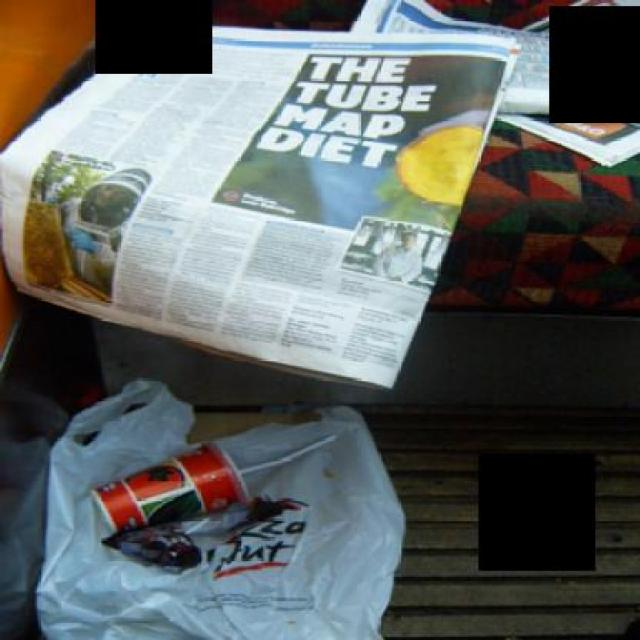plastic bag: (34, 380, 403, 638)
